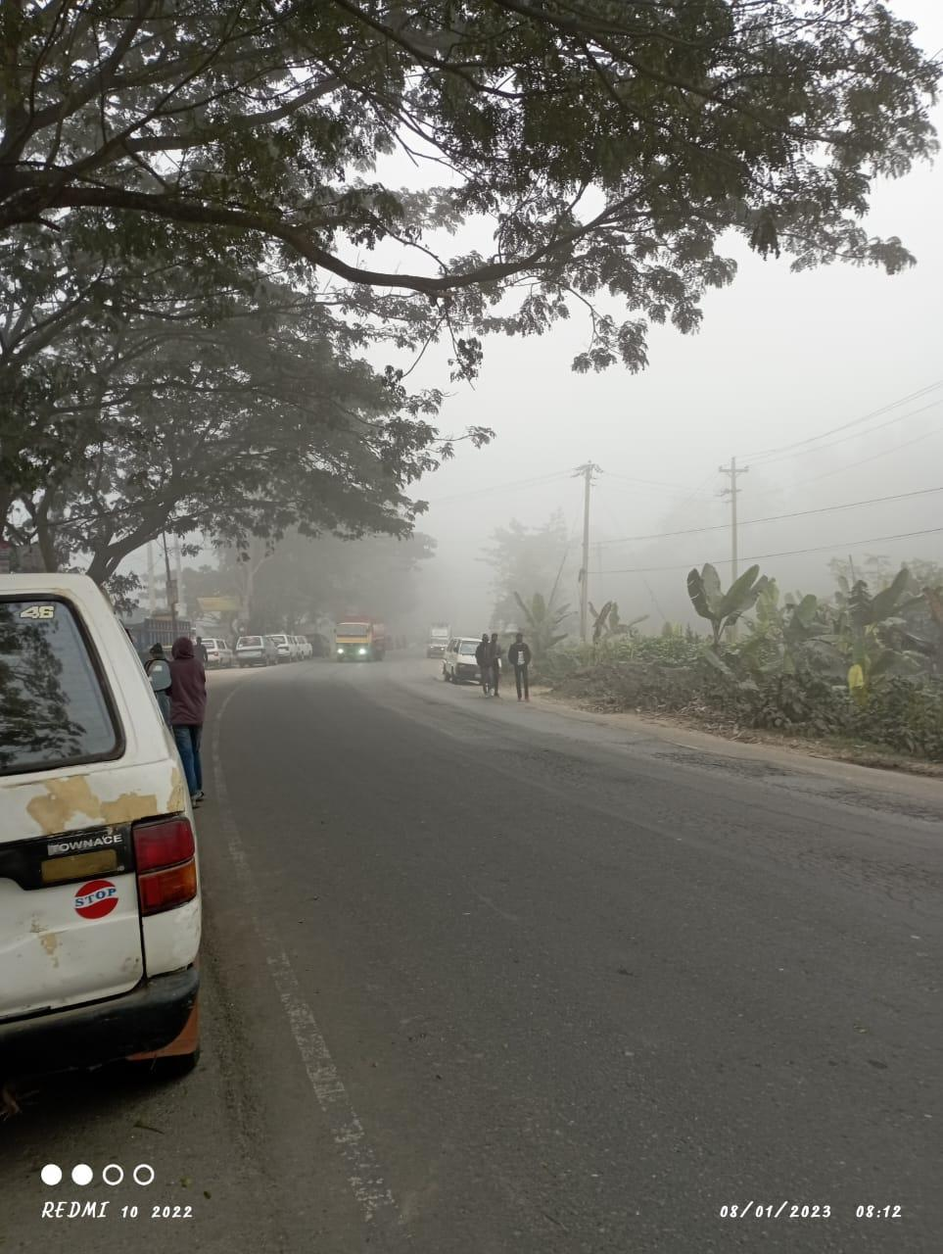Car: (439, 636, 505, 682), (235, 630, 285, 667)
Truck: (327, 615, 393, 666)
